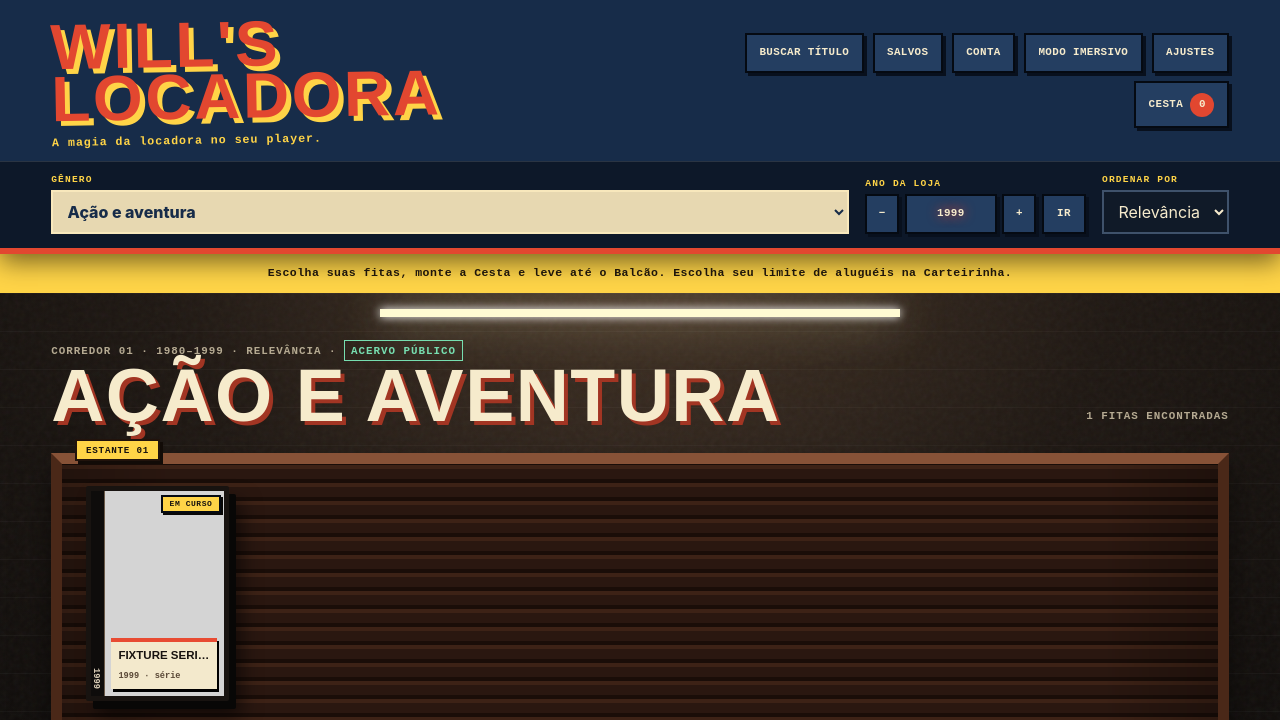
Test: series watched state on the shelf › counts a single watched episode in English too
The image size is (1280, 720).
Click the button "Ajustes": (1190, 53) top-left (1152, 33), bottom-right (1229, 73)
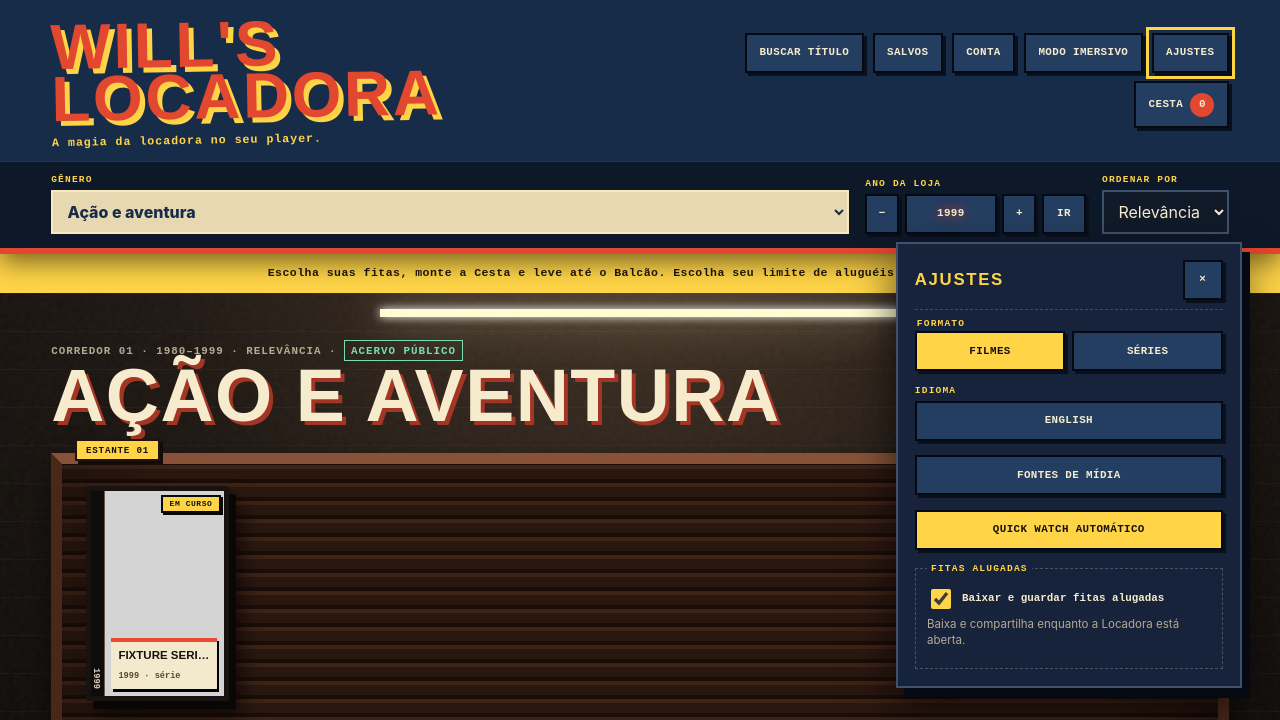
Click the button "English": (1069, 421) top-left (915, 401), bottom-right (1223, 441)
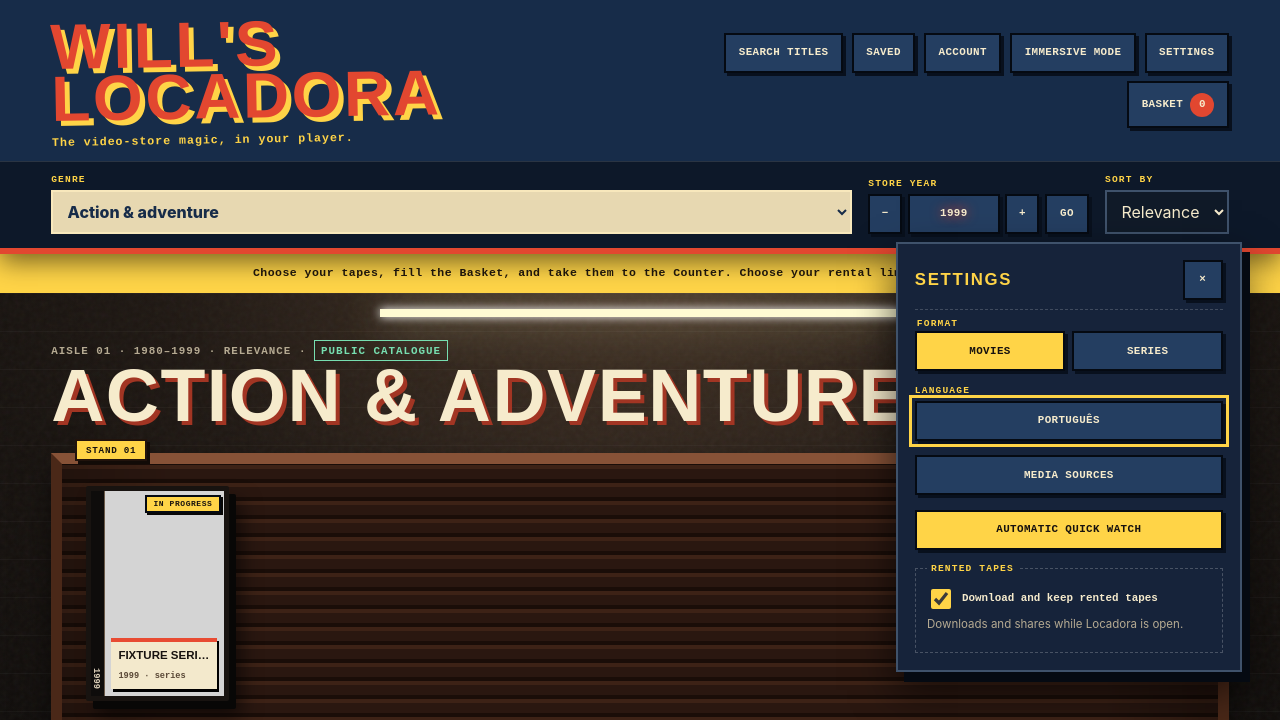
expect the picture named "Fixture series: 1 episode watched" is shown: met, box top-left (145, 495), bottom-right (220, 513)
